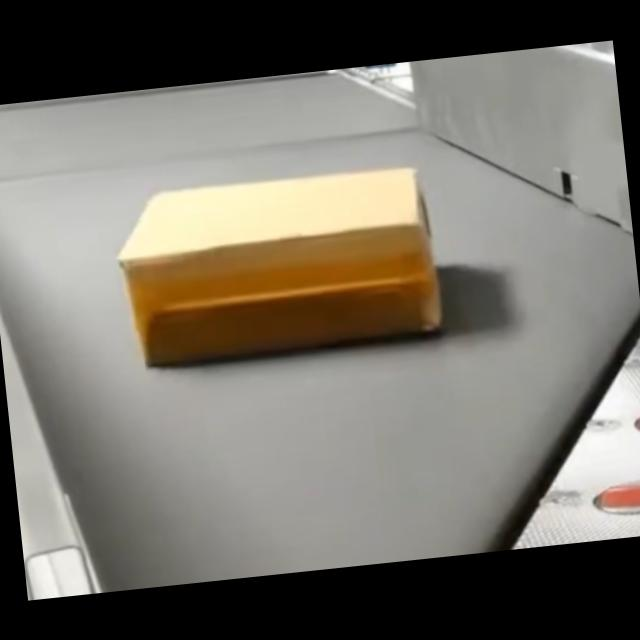box: (110, 160, 448, 372)
